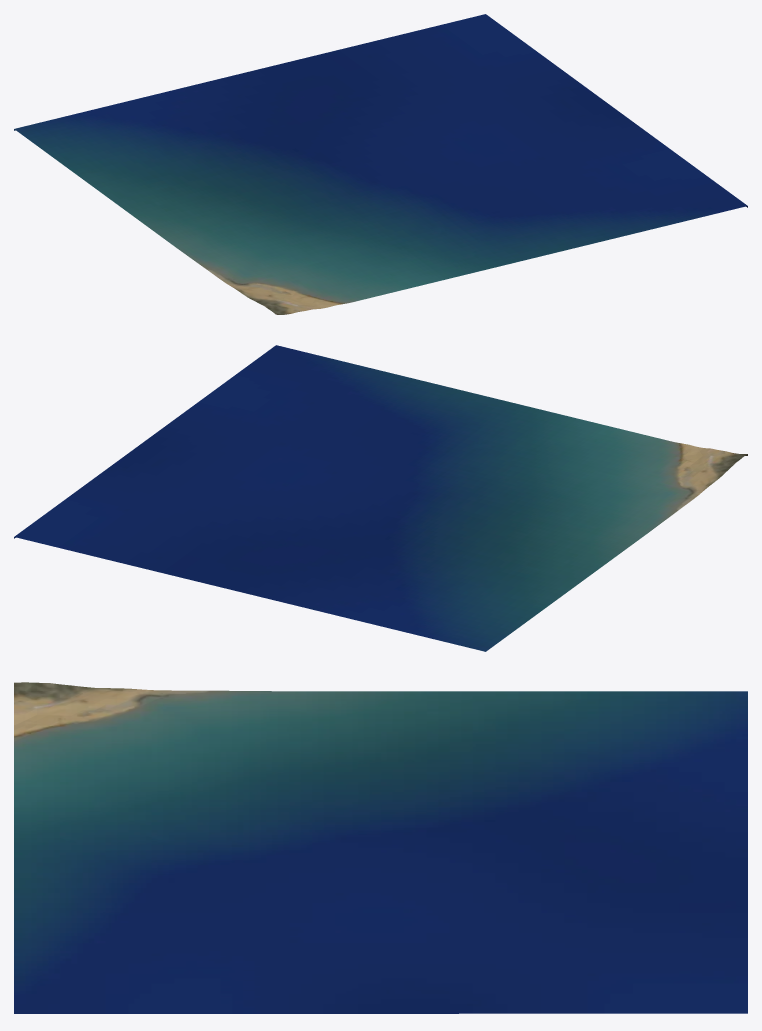
The picture shows the model from 3 angles, top to bottom: view 1: azimuth 30°, elevation 25°; view 2: azimuth 150°, elevation 25°; view 3: azimuth 270°, elevation 25°; orthographic projection. The views are drawn at different scales.
Size of the model in its own units: 250 by 4.34 by 241.
1 material, 1 textured.
